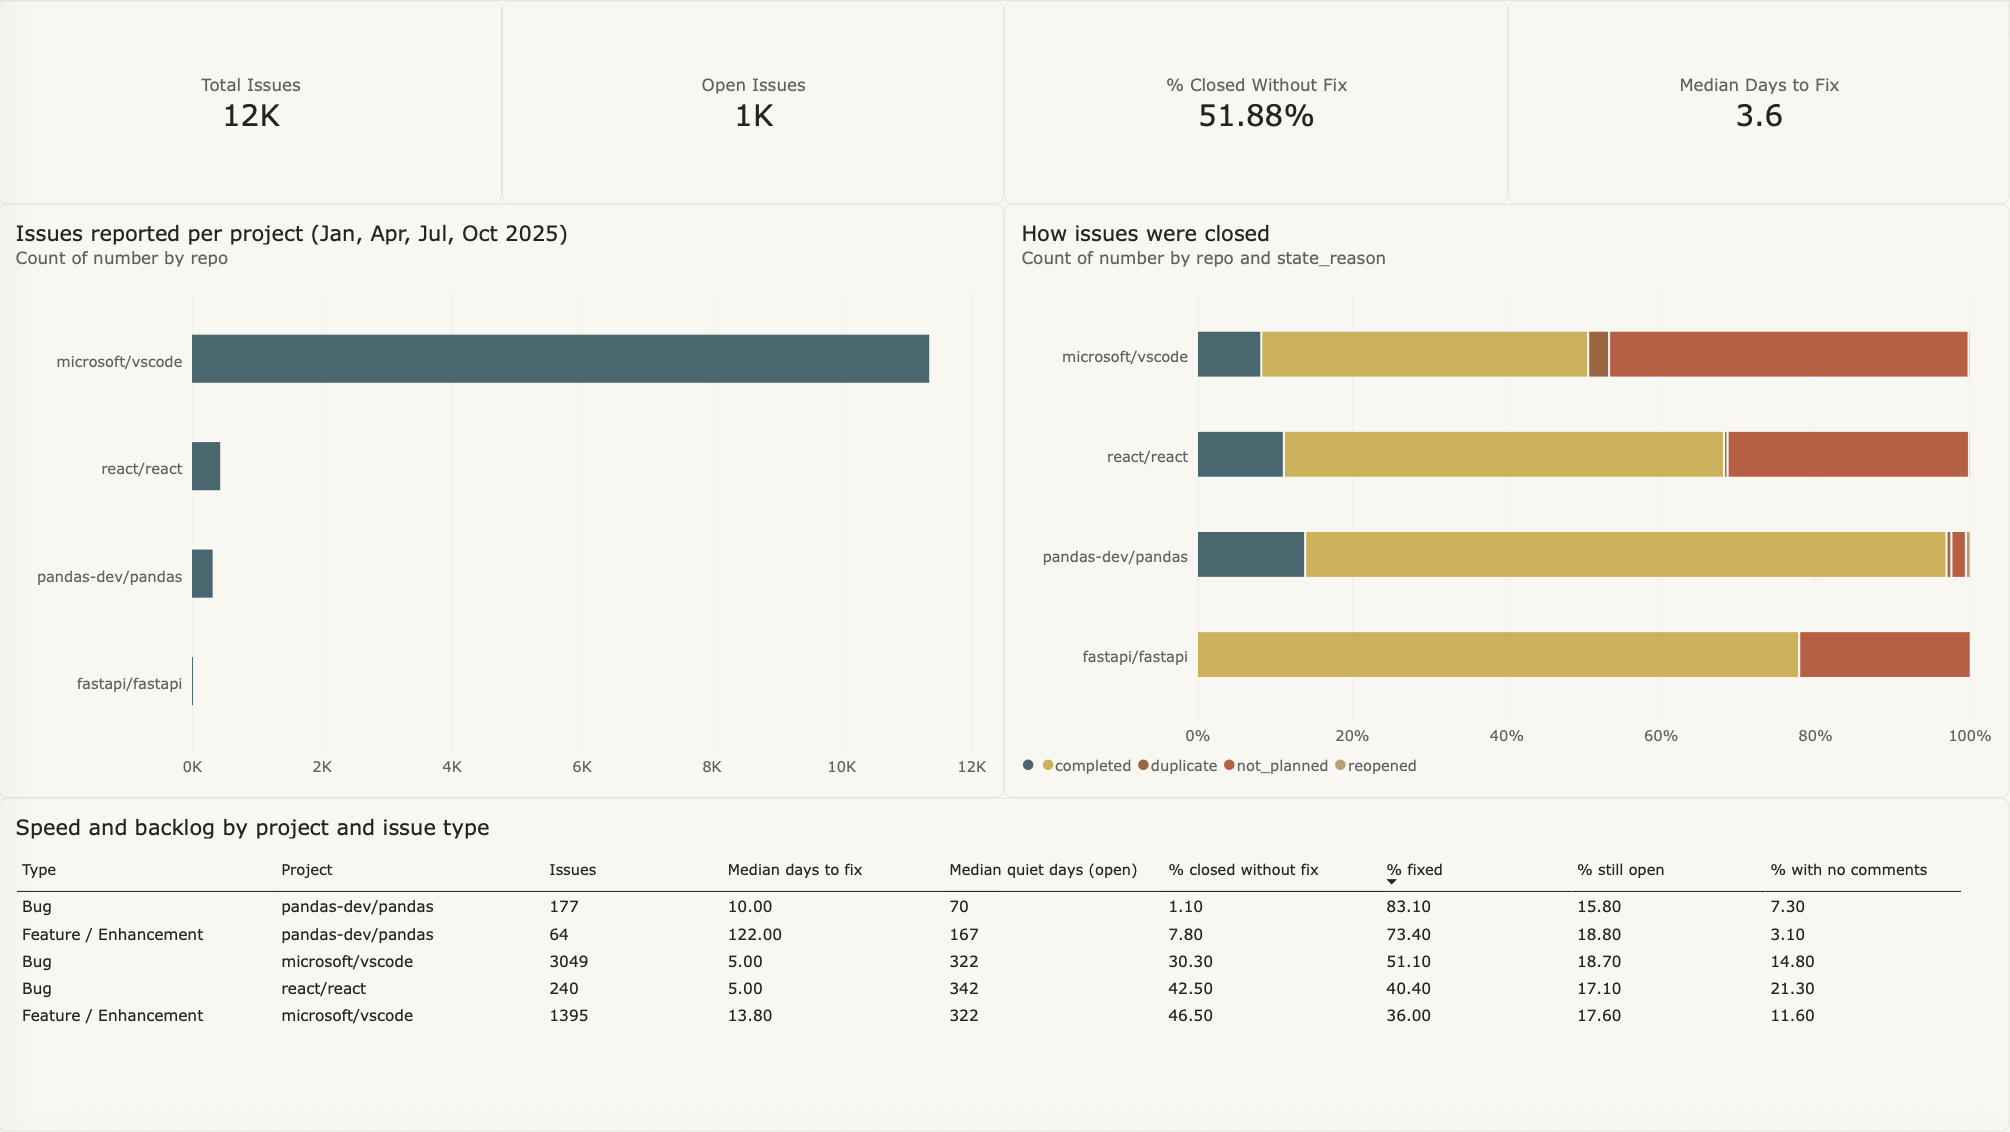

The page's visual inventory and layout, read from the dashboard file:
{"tool":"powerbi","page":{"name":"Overview","canvas":[1920,1080],"ordinal":0},"visuals":[{"type":"cardVisual","title":"Issues Analyzed","fields":{"Data":["export_categorized.Total Issues"]},"box":[0,0,481.4,193.7],"z":0},{"type":"clusteredBarChart","title":"Issues reported per project (Jan, Apr, Jul, Oct 2025)","fields":{"Category":["export_categorized.repo"],"Y":["CountNonNull(export_categorized.number)"]},"box":[0,193.7,960,566.9],"z":1000},{"type":"hundredPercentStackedBarChart","title":"How issues were closed","fields":{"Category":["export_categorized.repo"],"Series":["export_categorized.state_reason"],"Y":["CountNonNull(export_categorized.number)"]},"box":[960,193.7,960,566.9],"z":2000},{"type":"tableEx","title":"Speed and backlog by project and issue type","fields":{"Values":["repo_overview_v2.category","repo_overview_v2.repo","Sum(repo_overview_v2.issues)","Sum(repo_overview_v2.median_days_to_fix)","Sum(repo_overview_v2.median_inactive_days_open)","Sum(repo_overview_v2.pct_closed_no_fix)","Sum(repo_overview_v2.pct_fixed)","Sum(repo_overview_v2.pct_still_open)","Sum(repo_overview_v2.pct_zero_comments)"]},"box":[0,760.6,1920,319.1],"z":3000},{"type":"cardVisual","title":"Issues Analyzed","fields":{"Data":["export_categorized.Open Issues"]},"box":[481.4,0,478.6,193.7],"z":3001},{"type":"cardVisual","title":"Issues Analyzed","fields":{"Data":["export_categorized.% Closed Without Fix"]},"box":[960,0,481.4,193.7],"z":3002},{"type":"cardVisual","title":"Issues Analyzed","fields":{"Data":["export_categorized.Median Days to Fix"]},"box":[1441.4,0,478.6,193.7],"z":3003}]}

Visuals, with their boxes in screenshot pixels (x1, y1, x2, y2), scaled from the page's 1920x1080 canvas onto the 2010x1132 screenshot:
"Issues Analyzed" cardVisual: pyautogui.locateOnScreen(0, 0, 504, 203)
"Issues reported per project (Jan, Apr, Jul, Oct 2025)" clusteredBarChart: pyautogui.locateOnScreen(0, 203, 1005, 797)
"How issues were closed" hundredPercentStackedBarChart: pyautogui.locateOnScreen(1005, 203, 2009, 797)
"Speed and backlog by project and issue type" tableEx: pyautogui.locateOnScreen(0, 797, 2009, 1131)
"Issues Analyzed" cardVisual: pyautogui.locateOnScreen(504, 0, 1005, 203)
"Issues Analyzed" cardVisual: pyautogui.locateOnScreen(1005, 0, 1509, 203)
"Issues Analyzed" cardVisual: pyautogui.locateOnScreen(1509, 0, 2009, 203)
